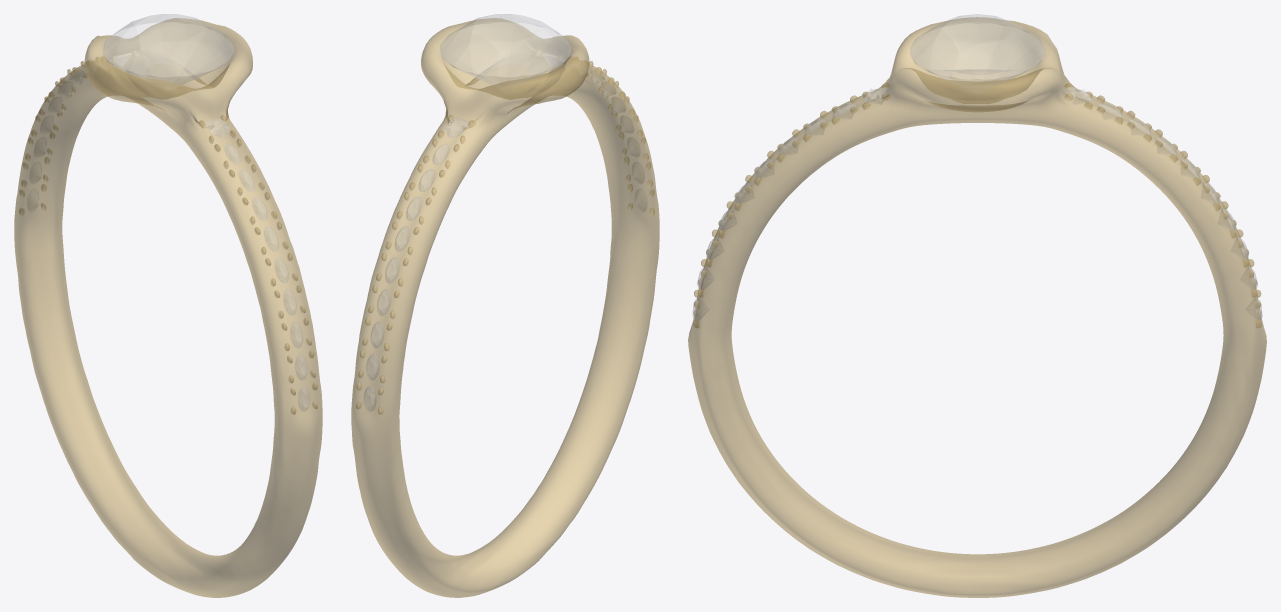
3 renders of one model, left to right at view 1: azimuth 30°, elevation 25°; view 2: azimuth 150°, elevation 25°; view 3: azimuth 270°, elevation 25°, orthographic. The views are drawn at different scales.
Parts seen in each view (by area): view 1: Ring, Diamond; view 2: Ring, Diamond; view 3: Ring, Diamond.
Boxes of the visible parts, left/top/right/bottom form: Ring: left=14, top=18, right=322, bottom=597; Diamond: left=27, top=14, right=309, bottom=411; Ring: left=351, top=18, right=659, bottom=597; Diamond: left=363, top=14, right=647, bottom=411; Ring: left=688, top=17, right=1266, bottom=597; Diamond: left=693, top=14, right=1262, bottom=319.
Size of the model in its own units: 0.6975 by 2.52 by 2.33.
